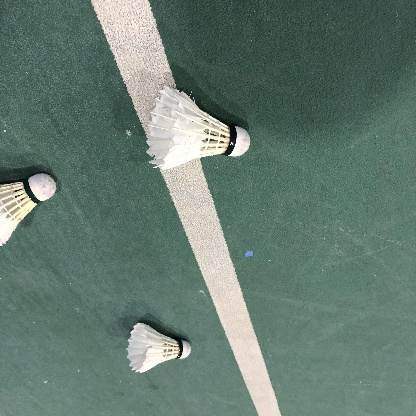ball_single: (146, 86, 250, 169), (0, 173, 56, 246), (126, 323, 191, 373)
